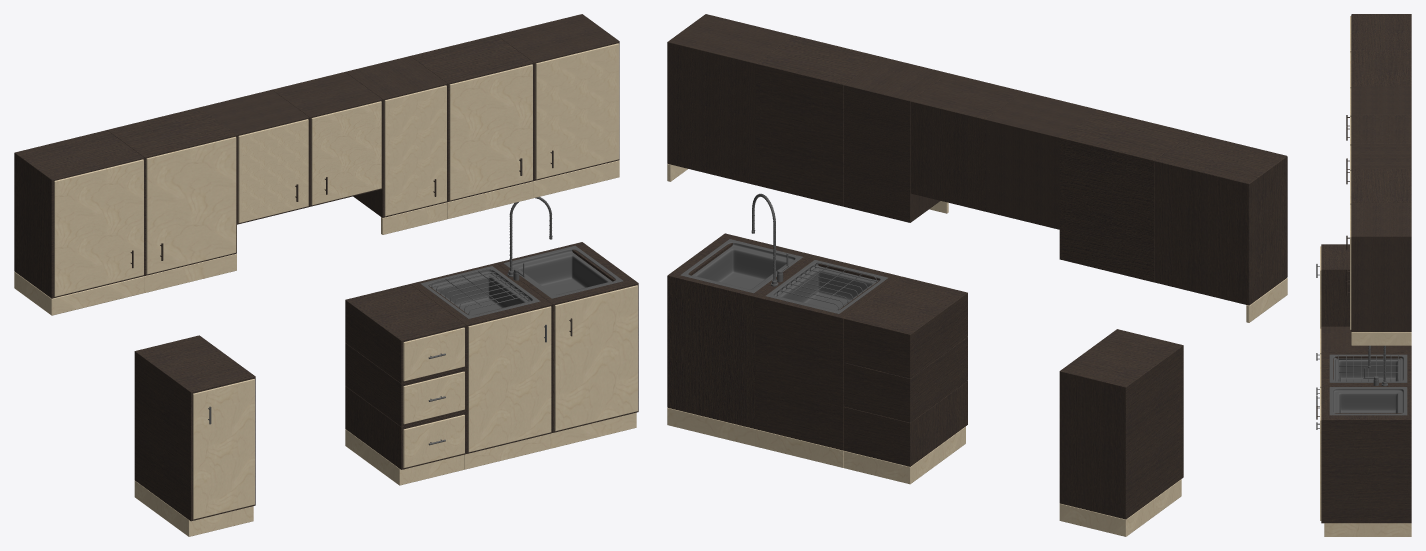
Rendered from Cabinets.fbx.
3 views of the same model, side by side, from view 1: azimuth 30°, elevation 25°; view 2: azimuth 150°, elevation 25°; view 3: azimuth 270°, elevation 25° (orthographic). The views are drawn at different scales.
Visible parts, largest first — view 1: cabinets_40x86, cabinets_40x86_deraver, cabinets_57x40_top_corner, cabinets_57x40_top, cabinets_53x40_top, cabinets_53x40_top_corner, cabinets_53x86, caninets_53x86_mirror, cabinets_40x40_top, cabinets_45x40_top_gaz, cabinets_45x40_top_gaz_mirror, sink; view 2: cabinets_40x86, cabinets_40x86_deraver, cabinets_57x40_top_corner, cabinets_57x40_top, caninets_53x86_mirror, cabinets_53x86, cabinets_53x40_top_corner, cabinets_53x40_top, cabinets_40x40_top, cabinets_45x40_top_gaz, cabinets_45x40_top_gaz_mirror, sink; view 3: cabinets_53x86, cabinets_53x40_top_corner, sink, cabinets_40x86, cabinets_57x40_top, cabinets_57x40_top_corner, cabinets_53x40_top, cabinets_45x40_top_gaz, cabinets_45x40_top_gaz_mirror, cabinets_40x40_top, cabinets_40x86_deraver, caninets_53x86_mirror.
Boxes of the visible parts, x1,y1,x2,y2 form: cabinets_40x86: (134, 335, 255, 536); cabinets_40x86_deraver: (345, 284, 466, 485); cabinets_57x40_top_corner: (14, 130, 144, 315); cabinets_57x40_top: (107, 107, 236, 292); cabinets_53x40_top: (410, 35, 533, 218); cabinets_53x40_top_corner: (496, 14, 619, 197); cabinets_53x86: (497, 242, 638, 448); caninets_53x86_mirror: (410, 263, 552, 469); cabinets_40x40_top: (345, 56, 447, 234); cabinets_45x40_top_gaz: (272, 72, 382, 206); cabinets_45x40_top_gaz_mirror: (199, 89, 309, 224); sink: (420, 197, 623, 318); cabinets_40x86: (1059, 329, 1183, 536); cabinets_40x86_deraver: (844, 276, 967, 484); cabinets_57x40_top_corner: (1154, 133, 1287, 322); cabinets_57x40_top: (1059, 109, 1192, 282); caninets_53x86_mirror: (755, 255, 900, 467); cabinets_53x86: (667, 233, 812, 446); cabinets_53x40_top_corner: (667, 14, 793, 185); cabinets_53x40_top: (755, 35, 881, 206); cabinets_40x40_top: (844, 57, 948, 222); cabinets_45x40_top_gaz: (910, 73, 1023, 211); cabinets_45x40_top_gaz_mirror: (985, 91, 1097, 229); sink: (680, 193, 887, 313); cabinets_53x86: (1316, 386, 1411, 536); cabinets_53x40_top_corner: (1346, 203, 1411, 345); sink: (1329, 345, 1407, 415); cabinets_40x86: (1316, 244, 1349, 328); cabinets_57x40_top: (1346, 50, 1411, 140); cabinets_57x40_top_corner: (1346, 14, 1411, 126); cabinets_53x40_top: (1346, 169, 1411, 281); cabinets_45x40_top_gaz: (1346, 115, 1411, 184); cabinets_45x40_top_gaz_mirror: (1346, 86, 1411, 169); cabinets_40x40_top: (1346, 143, 1411, 249); cabinets_40x86_deraver: (1316, 326, 1411, 429); caninets_53x86_mirror: (1316, 352, 1411, 406).
Bounding box in the file's own units: 350 × 220 × 63.41.
